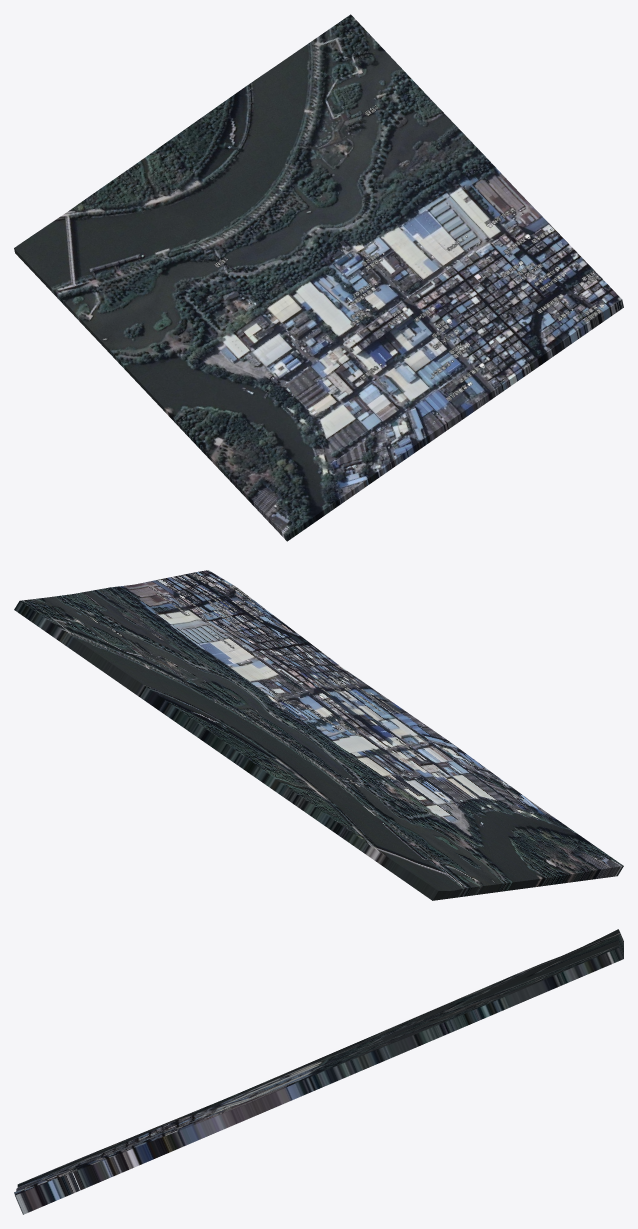
3 renders of one model, top to bottom at view 1: azimuth 30°, elevation 25°; view 2: azimuth 150°, elevation 25°; view 3: azimuth 270°, elevation 25°, orthographic. The views are drawn at different scales.
Parts seen in each view (by area): view 1: 0_19_24; view 2: 0_19_24; view 3: 0_19_24.
Part boxes in pixels (box(x1,y1,x2,y2)): 0_19_24: box(14, 14, 623, 541); 0_19_24: box(14, 570, 623, 900); 0_19_24: box(14, 929, 623, 1214).
Bounding box in the file's own units: 597 × 438 × 550.
1 material, 1 textured.
